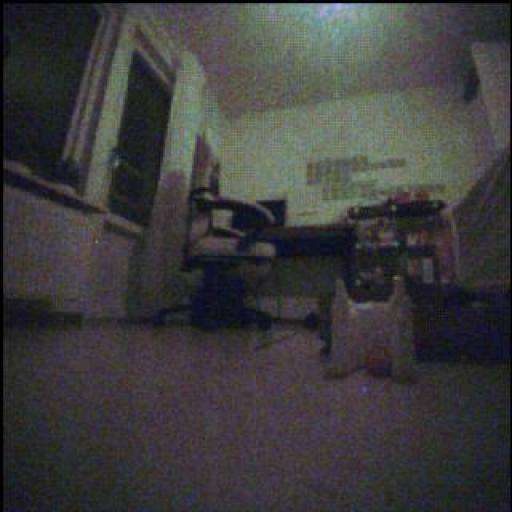basket: (362, 342, 392, 379)
